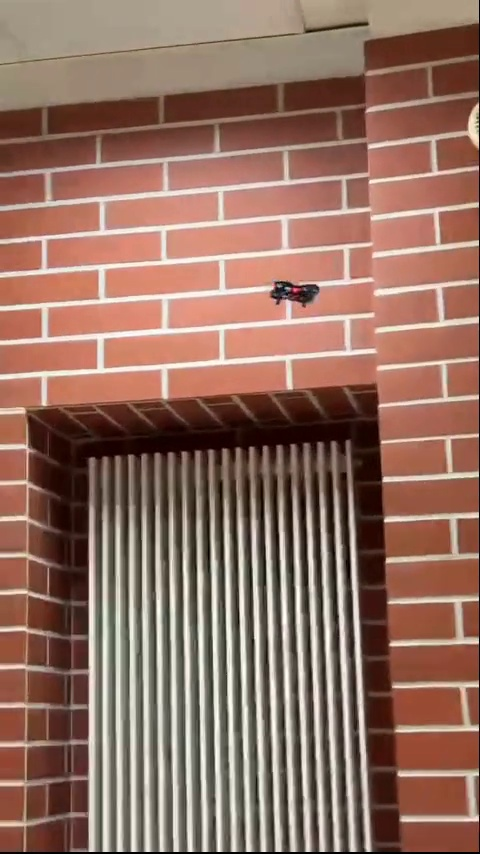drone: (269, 277, 326, 310)
